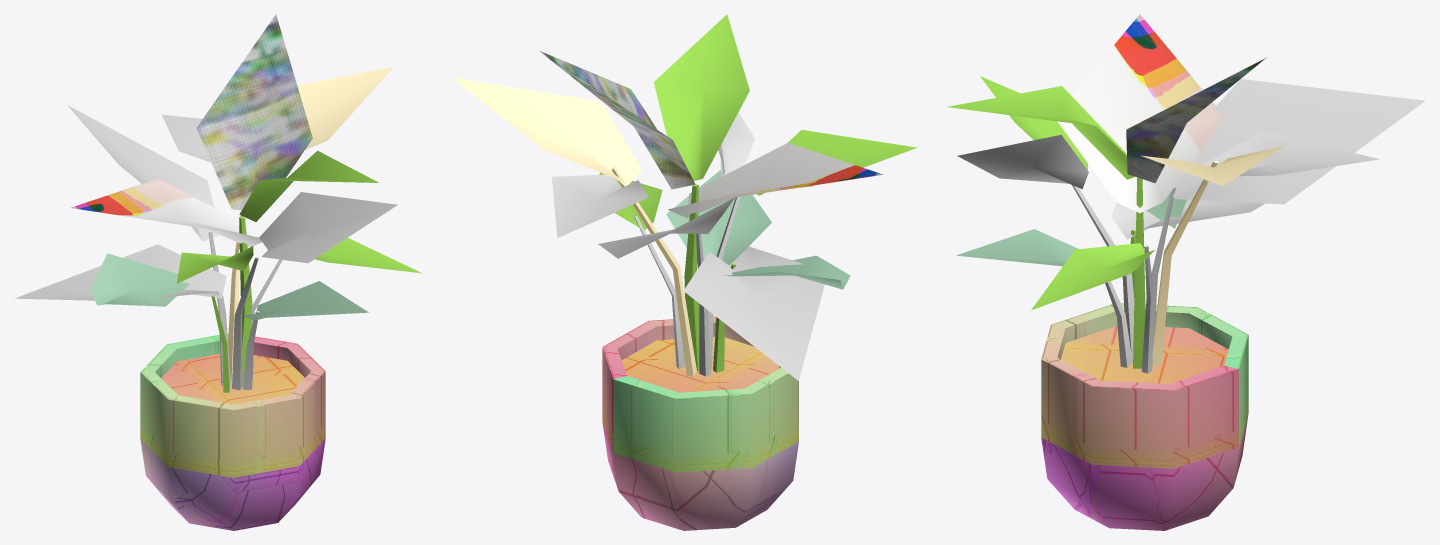
The model's file is plant2.fbx.
The picture shows the model from 3 angles, left to right: view 1: azimuth 30°, elevation 25°; view 2: azimuth 150°, elevation 25°; view 3: azimuth 270°, elevation 25°; orthographic projection. The views are drawn at different scales.
Visible parts, largest first — view 1: pCylinder1, pPlane11, pPlane15, pPlane10, pPlane14, pPlane21, pPlane19, pPlane13, pPlane12, pPlane17, pPlane20, pPlane16 (+7 smaller); view 2: pCylinder1, pPlane13, pPlane12, pPlane19, pPlane10, pPlane11, pPlane18, pPlane17, pPlane16, pPlane21, pCube6, pPlane14 (+7 smaller); view 3: pCylinder1, pPlane14, pPlane10, pPlane11, pPlane15, pPlane12, pPlane18, pPlane20, pPlane17, pPlane13, pCube6, pPlane19 (+6 smaller).
Part boxes in pixels (<box>): pCylinder1: <box>140,333,325,530</box>; pPlane11: <box>196,14,312,210</box>; pPlane15: <box>259,192,397,263</box>; pPlane10: <box>70,178,261,247</box>; pPlane14: <box>67,105,219,241</box>; pPlane21: <box>90,253,189,306</box>; pPlane19: <box>297,66,393,149</box>; pPlane13: <box>15,244,226,300</box>; pPlane12: <box>239,150,378,221</box>; pPlane17: <box>243,281,368,320</box>; pPlane20: <box>315,238,421,273</box>; pPlane16: <box>176,246,253,283</box>; pCylinder1: <box>602,316,798,530</box>; pPlane13: <box>683,246,824,380</box>; pPlane12: <box>654,14,749,180</box>; pPlane19: <box>451,77,641,186</box>; pPlane10: <box>667,142,882,217</box>; pPlane11: <box>539,50,695,189</box>; pPlane18: <box>552,174,648,237</box>; pPlane17: <box>666,170,771,265</box>; pPlane16: <box>757,130,917,195</box>; pPlane21: <box>723,255,850,289</box>; pCube6: <box>611,167,696,376</box>; pPlane14: <box>598,197,735,258</box>; pCylinder1: <box>1041,303,1248,530</box>; pPlane14: <box>1173,79,1425,204</box>; pPlane10: <box>1057,14,1225,213</box>; pPlane11: <box>1126,57,1266,182</box>; pPlane15: <box>957,134,1088,189</box>; pPlane12: <box>947,86,1140,179</box>; pPlane18: <box>1203,130,1379,182</box>; pPlane20: <box>1031,243,1154,310</box>; pPlane17: <box>956,229,1078,266</box>; pPlane13: <box>1111,199,1265,239</box>; pCube6: <box>1152,161,1217,365</box>; pPlane19: <box>1141,146,1284,186</box>.
Bounding box in the file's own units: 117 × 133 × 116.
Materials: 6 (3 with a texture image).
